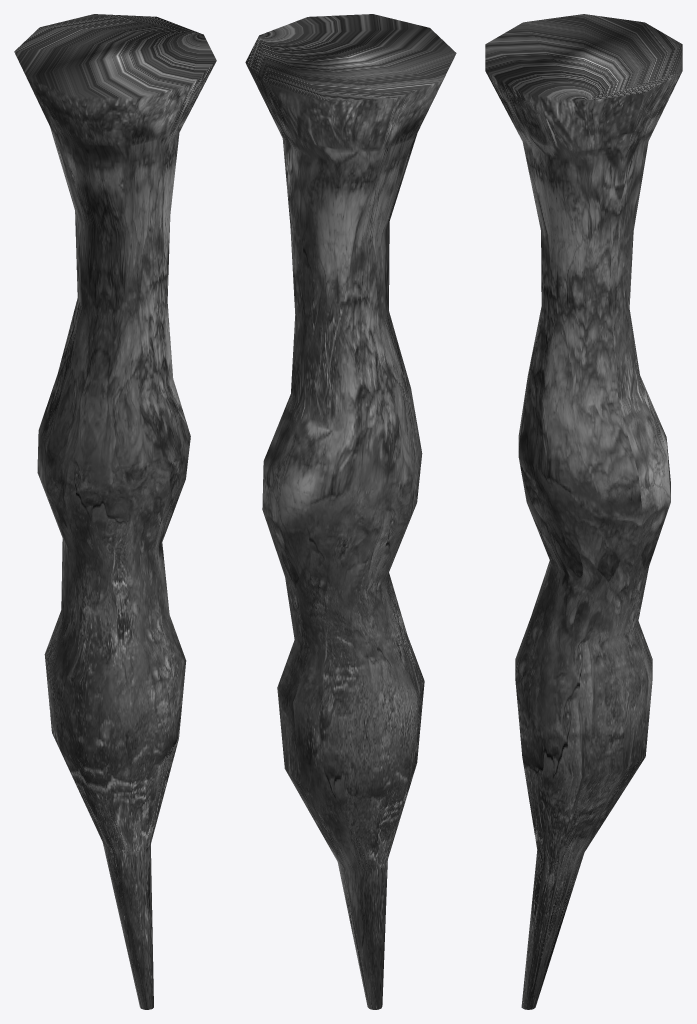
Rendered from stalag5.obj.
The picture shows the model from 3 angles, left to right: view 1: azimuth 30°, elevation 25°; view 2: azimuth 150°, elevation 25°; view 3: azimuth 270°, elevation 25°; orthographic projection. The views are drawn at different scales.
Visible parts, largest first — view 1: stalag1; view 2: stalag1; view 3: stalag1.
Boxes of the visible parts, left/top/right/bottom form: stalag1: left=14, top=14, right=216, bottom=1009; stalag1: left=245, top=14, right=456, bottom=1009; stalag1: left=485, top=14, right=682, bottom=1009.
Size of the model in its own units: 23.95 by 121 by 22.78.
Materials: 1 (1 with a texture image).
